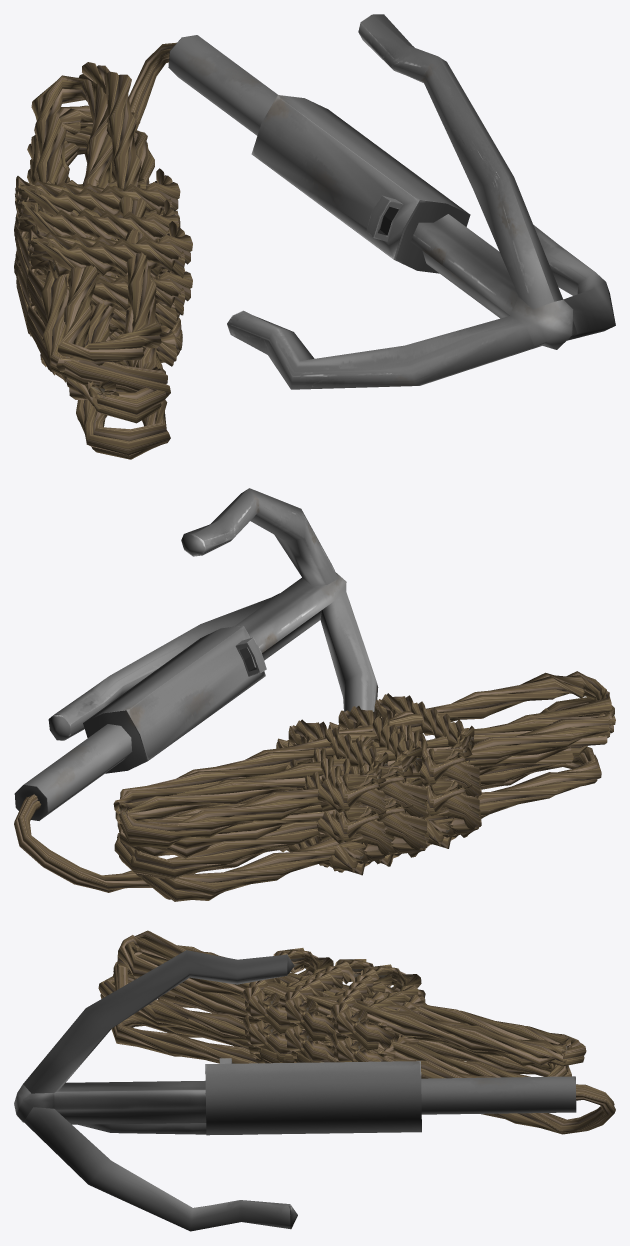
The model's file is WpMD_GrapplingInventory_01.fbx.
3 views of the same model, one above another, from view 1: azimuth 30°, elevation 25°; view 2: azimuth 150°, elevation 25°; view 3: azimuth 270°, elevation 25° (orthographic). The views are drawn at different scales.
Visible parts, largest first — view 1: sweep9; view 2: sweep9; view 3: sweep9.
Part boxes in pixels (left/top/right/bottom): sweep9: left=14, top=14, right=615, bottom=459; sweep9: left=14, top=488, right=615, bottom=901; sweep9: left=14, top=930, right=615, bottom=1231.
Bounding box in the file's own units: 14.31 × 7.11 × 16.75.
2 materials, 2 textured.
